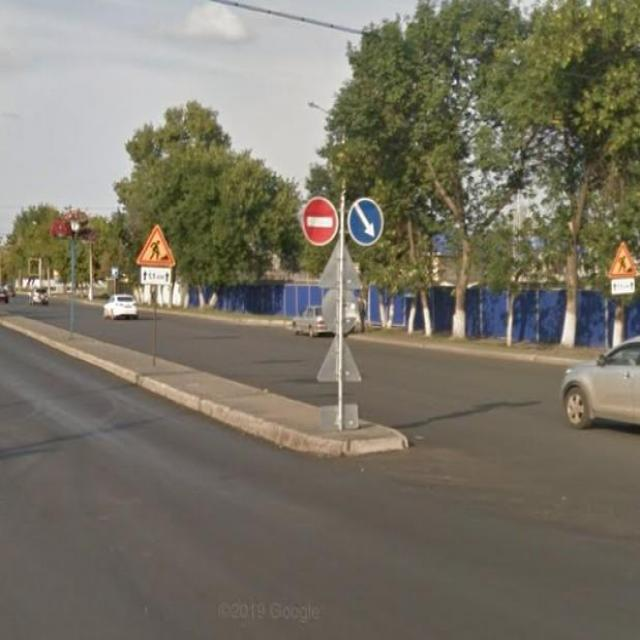traffic_sign: (133, 218, 179, 270), (299, 193, 340, 251)
